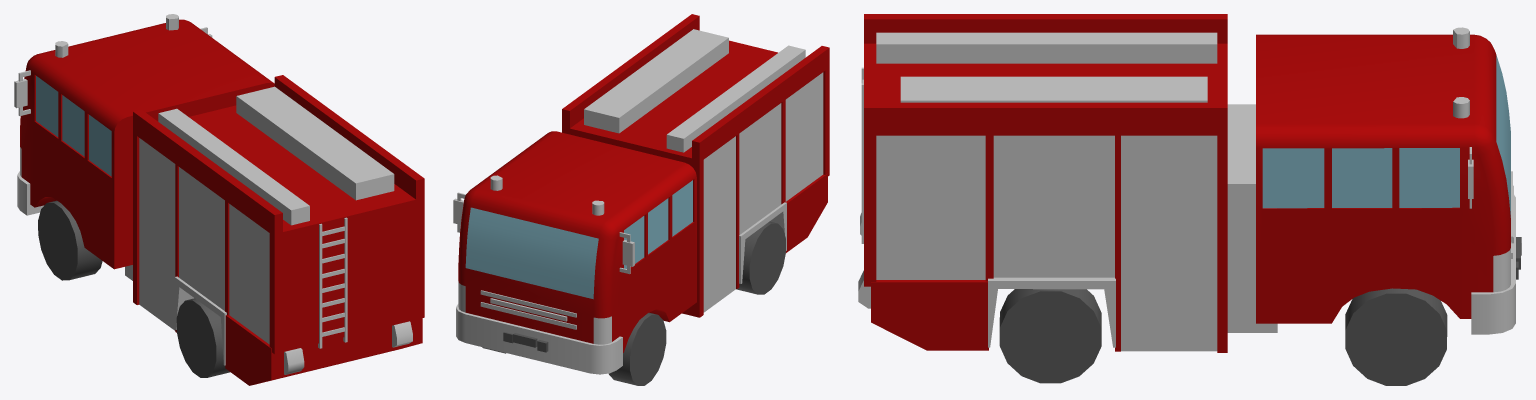
The model's file is car27.glb.
3 views of the same model, side by side, from view 1: azimuth 30°, elevation 25°; view 2: azimuth 150°, elevation 25°; view 3: azimuth 270°, elevation 25° (orthographic). The views are drawn at different scales.
Visible parts, largest first — view 1: XFC_Ke01_, XFC_Ke02_, XFC_Ke03_, XFC_Lun_, XFC_Glass_, XFC_Light_; view 2: XFC_Ke01_, XFC_Ke02_, XFC_Glass_, XFC_Ke03_, XFC_Lun_, XFC_Light_; view 3: XFC_Ke01_, XFC_Ke02_, XFC_Lun_, XFC_Glass_, XFC_Ke03_, XFC_Light_.
Part boxes in pixels (x1,y1,x2,y2): XFC_Ke01_: (20,19,424,385); XFC_Ke02_: (14,14,347,365); XFC_Ke03_: (236,86,394,200); XFC_Lun_: (38,200,229,377); XFC_Glass_: (36,76,111,176); XFC_Light_: (20,147,412,374); XFC_Ke01_: (458,14,829,352); XFC_Ke02_: (453,45,823,374); XFC_Glass_: (465,180,692,299); XFC_Ke03_: (584,29,728,133); XFC_Lun_: (482,221,785,385); XFC_Light_: (458,281,611,344); XFC_Ke01_: (864,14,1510,352); XFC_Ke02_: (861,27,1515,351); XFC_Lun_: (999,237,1521,385); XFC_Glass_: (1262,55,1510,217); XFC_Ke03_: (900,76,1207,102); XFC_Light_: (858,213,1510,308).
Bounding box in the file's own units: 2.94 × 3.04 × 6.72.
